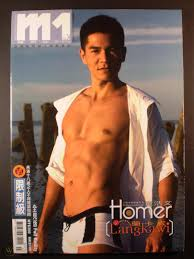asian_male: (80, 33, 127, 88)
